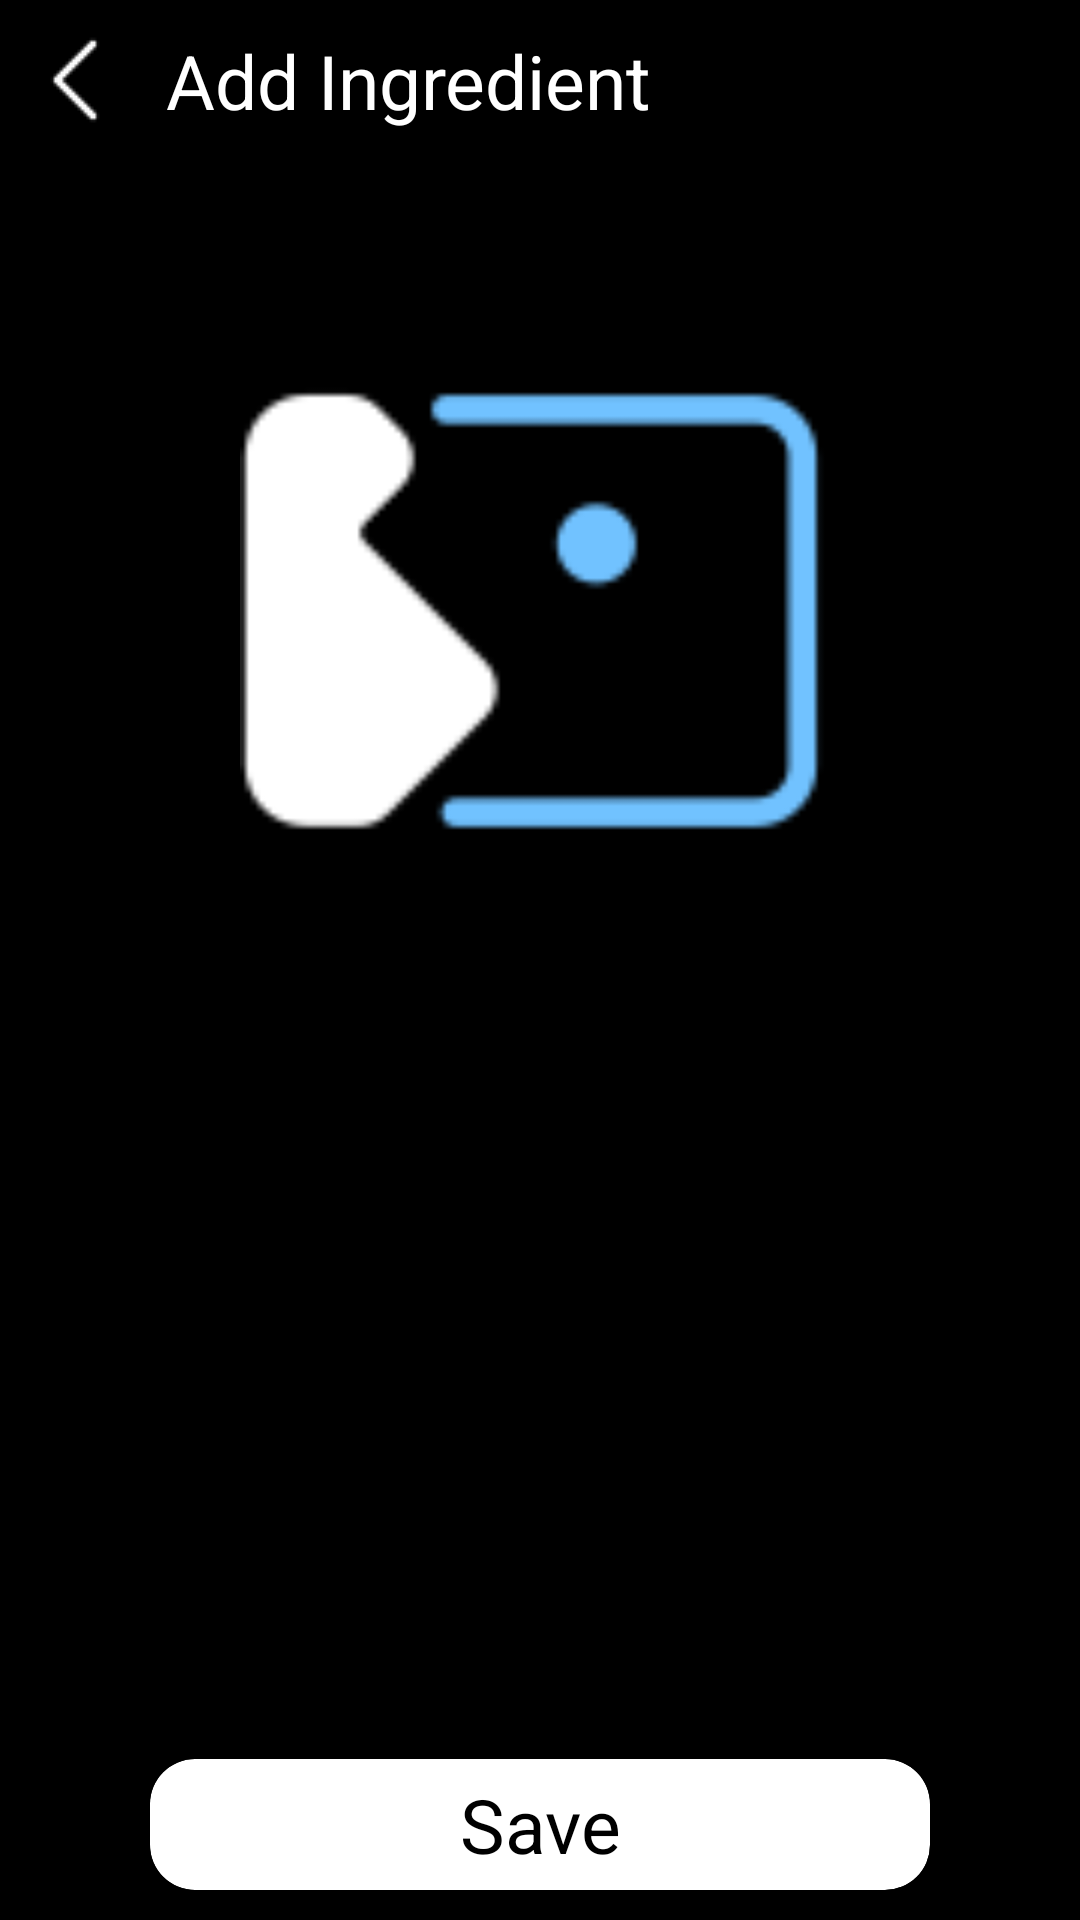

Where icons sit on this 1080x1920 app screen, as (x1, y1, x2, y2):
back: (53, 40, 97, 120)
